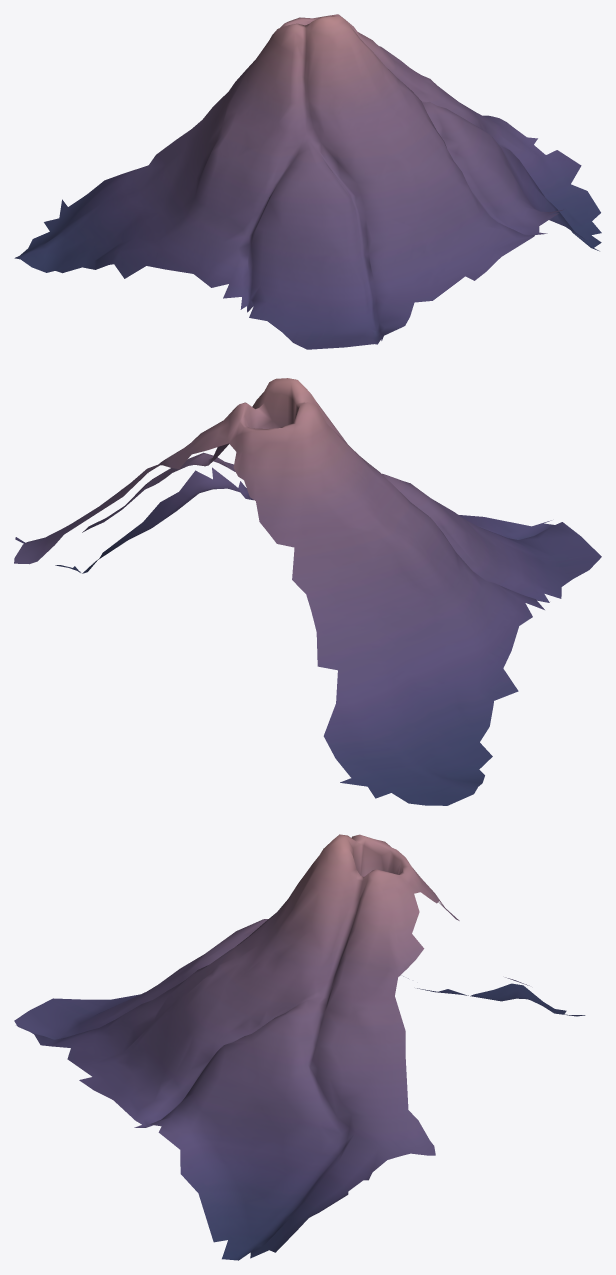
The model's file is volcano_static.glb.
3 views of the same model, one above another, from view 1: azimuth 30°, elevation 25°; view 2: azimuth 150°, elevation 25°; view 3: azimuth 270°, elevation 25° (orthographic). The views are drawn at different scales.
Visible parts, largest first — view 1: sky.jpg__; view 2: sky.jpg__; view 3: sky.jpg__.
Part boxes in pixels (left/top/right/bottom): sky.jpg__: left=14, top=14, right=601, bottom=349; sky.jpg__: left=14, top=378, right=601, bottom=805; sky.jpg__: left=14, top=834, right=585, bottom=1260.
Bounding box in the file's own units: 537 × 270 × 487.
1 material, 1 textured.
